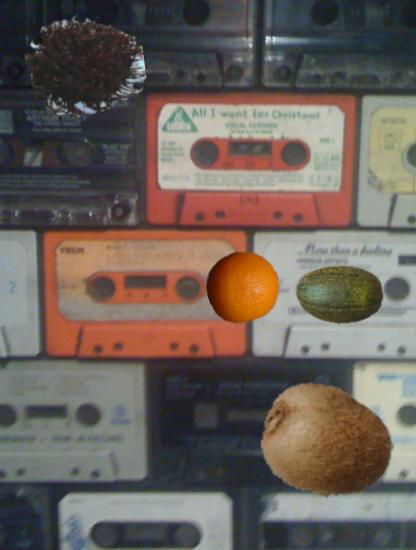Kiwi: (261, 373, 395, 507)
Melon: (295, 251, 385, 341)
Orange: (206, 250, 280, 324)
Rambutan: (26, 7, 145, 126)
